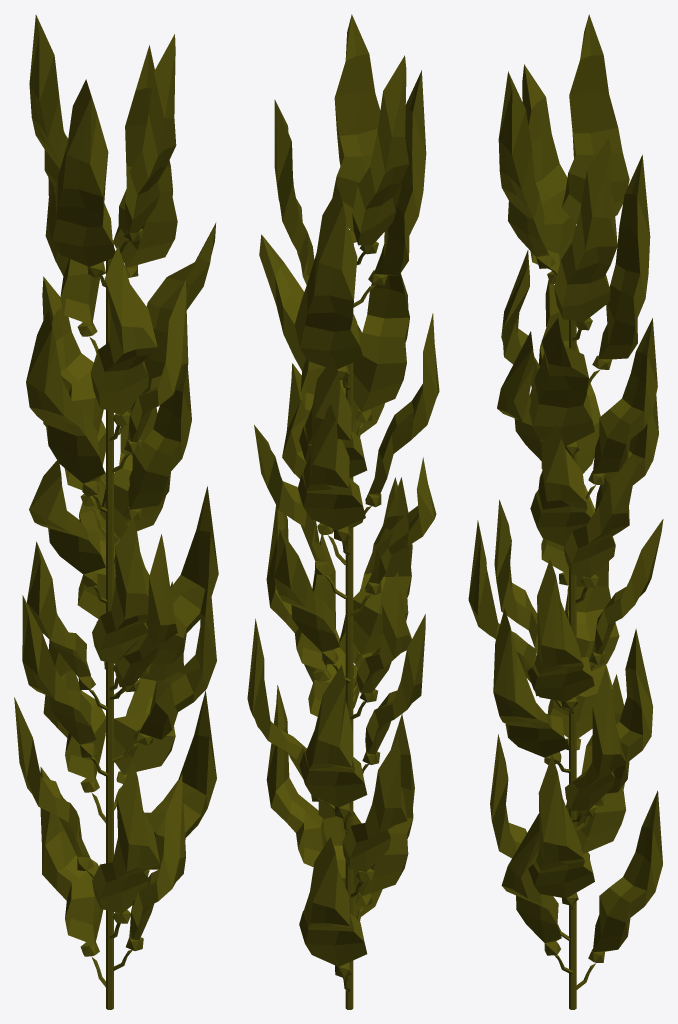
The model's file is reTopKelp.fbx.
3 renders of one model, left to right at view 1: azimuth 30°, elevation 25°; view 2: azimuth 150°, elevation 25°; view 3: azimuth 270°, elevation 25°, orthographic. The views are drawn at different scales.
Parts seen in each view (by area): view 1: reTopKelp; view 2: reTopKelp; view 3: reTopKelp.
Part boxes in pixels (box(x1,y1,x2,y2)): reTopKelp: box(14, 15, 218, 1009); reTopKelp: box(247, 14, 439, 1009); reTopKelp: box(468, 14, 663, 1009).
Bounding box in the file's own units: 5.31 × 27.38 × 5.02.
